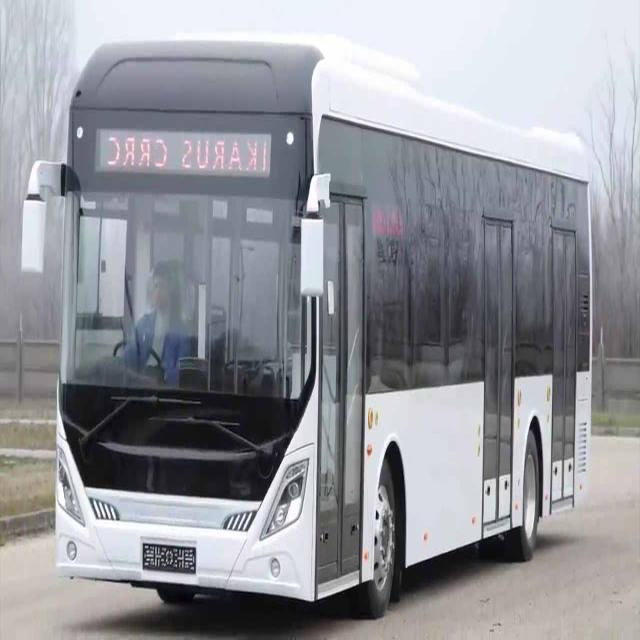bus: (27, 37, 596, 614)
